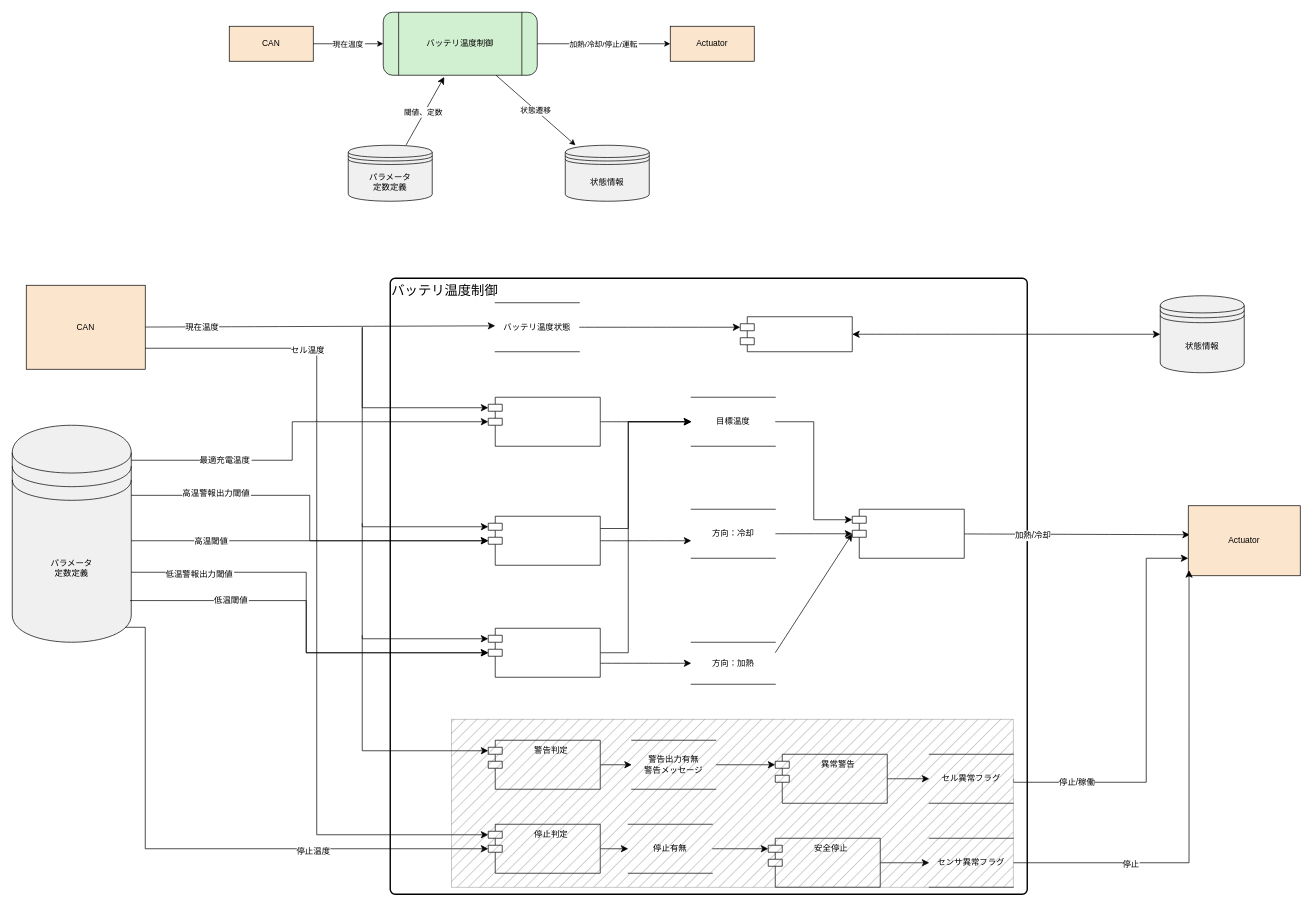
Some shapes in this 1313 by 907 pixel diagram are drawn without their labels. Each missing label, with the centre of its shape:
バッテリ温度状態遷移: point 796,334
低温制御判定: point 544,652
加熱冷却処理 lib: simple_pid: point 908,533
最適充電誘導: point 544,421
高温制御判定: point 544,540
（予約）: point 732,803
